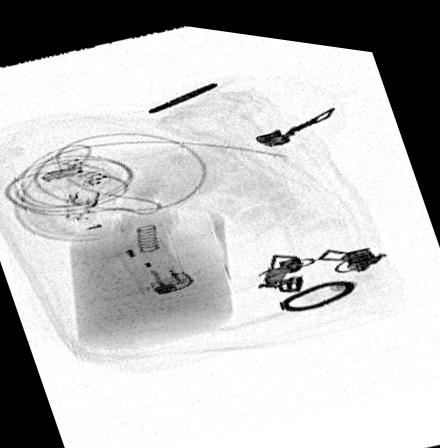Lighter: (111, 230, 195, 290)
